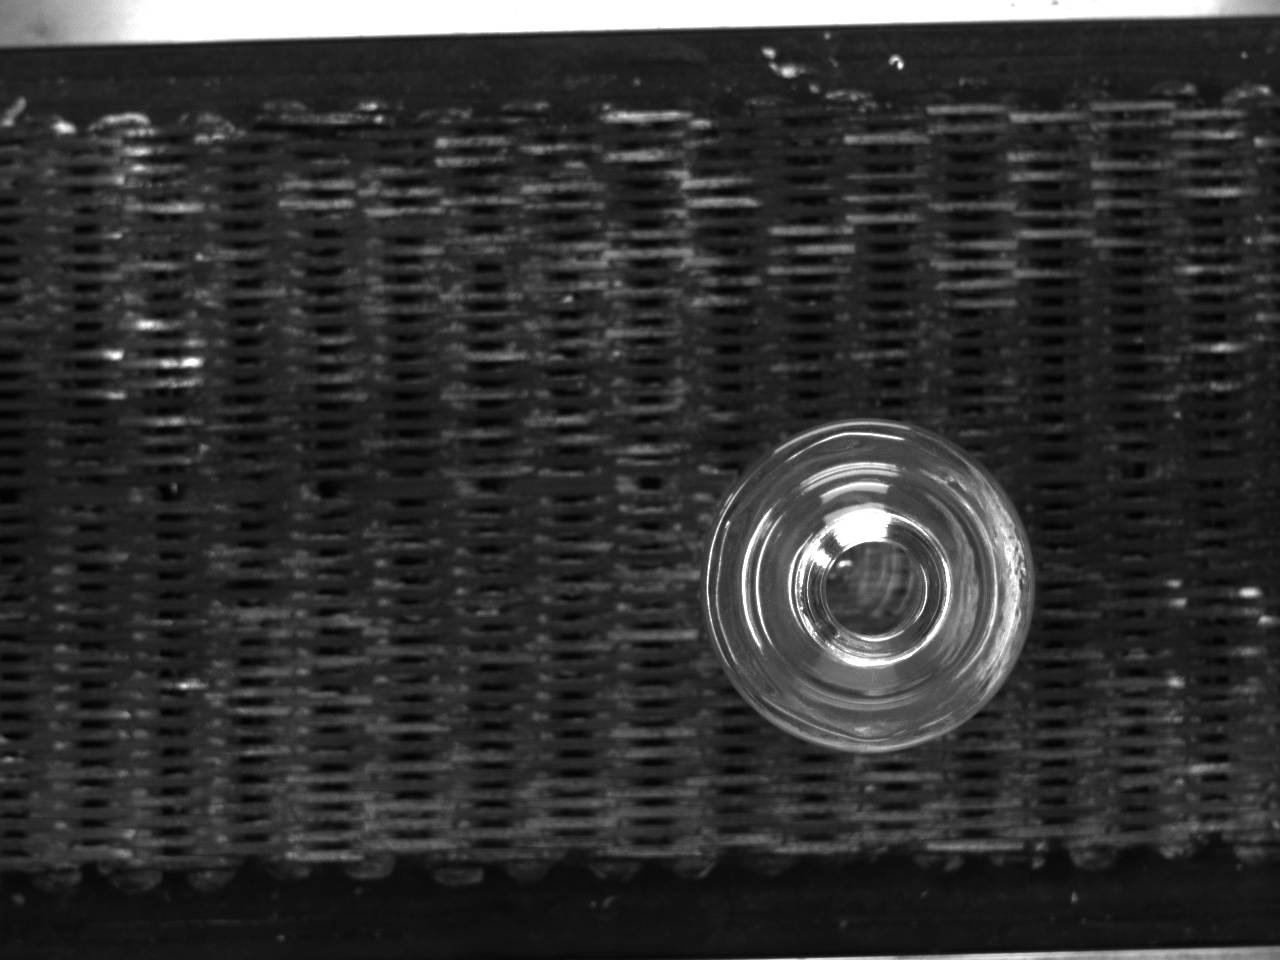bottleneck: (793, 507, 952, 667)
